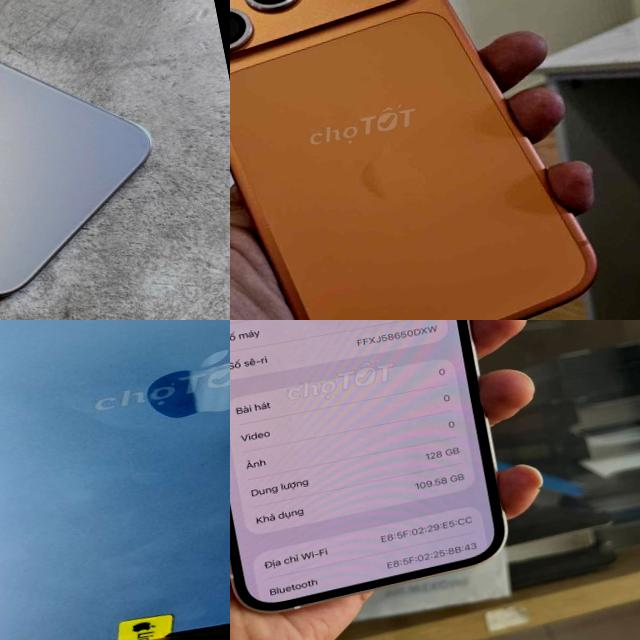gen_12_13: (230, 320, 529, 624), (0, 320, 230, 640)
gen_15: (0, 0, 198, 320)
gen_17: (230, 0, 619, 320)
